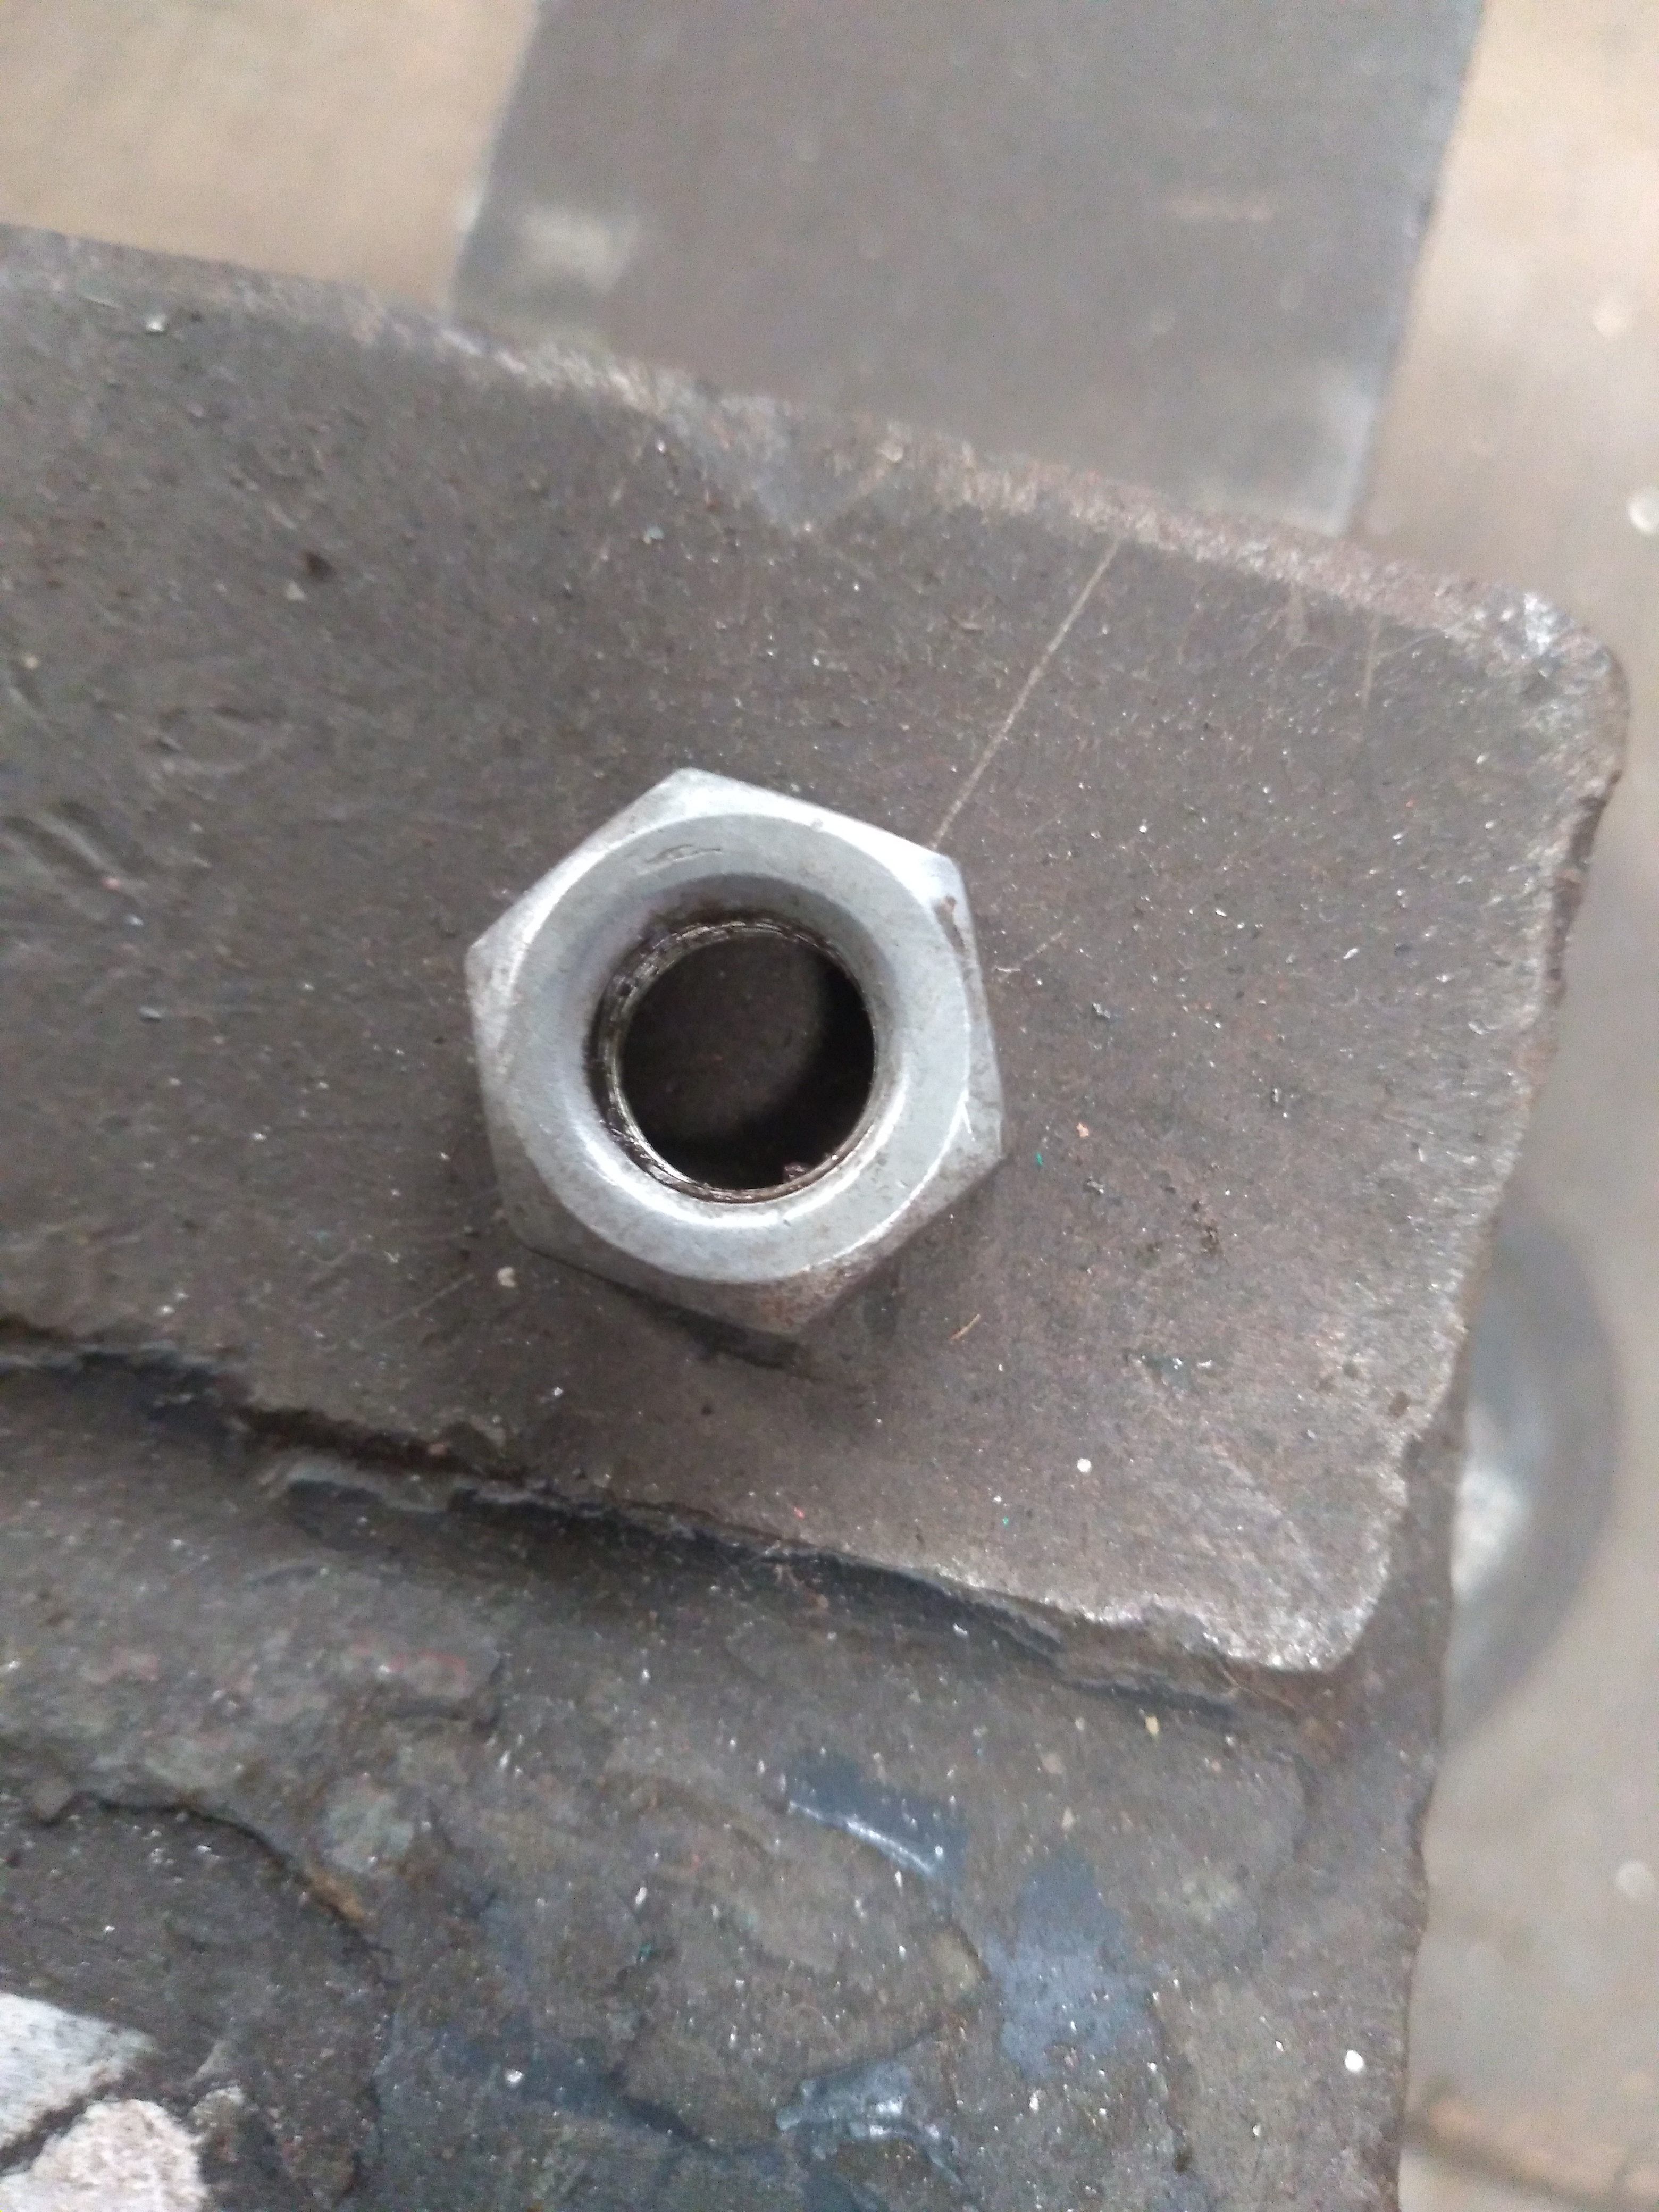Thread: (507, 881, 913, 1205)
